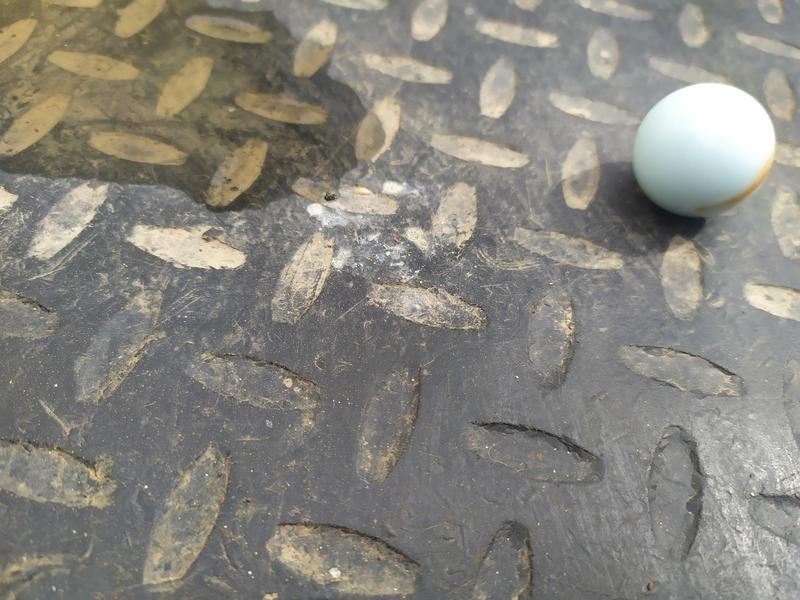Warning: (629, 79, 779, 221)
